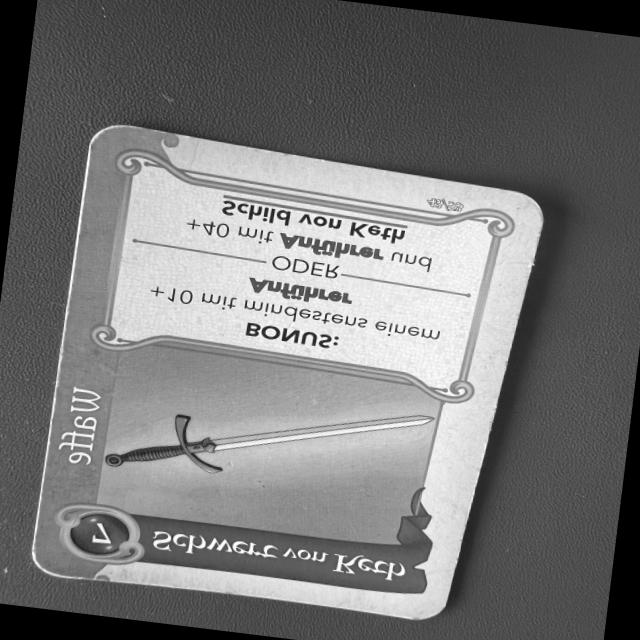Sword of Keth: (27, 113, 553, 626)
